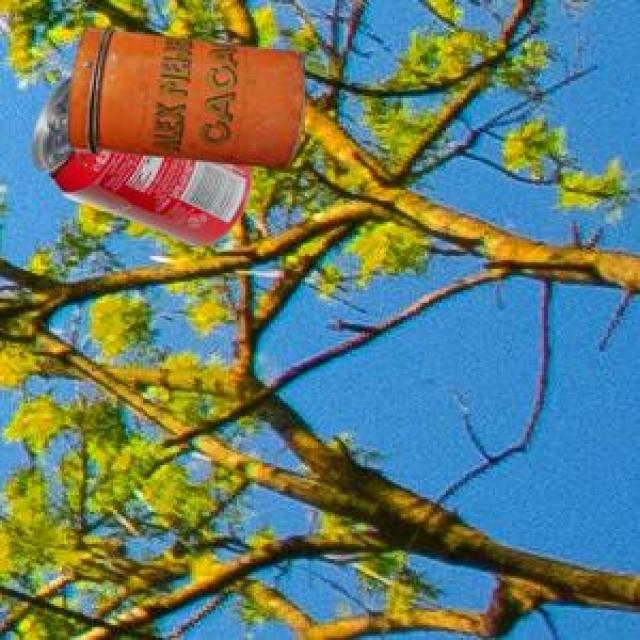logam: (29, 74, 246, 244), (65, 25, 302, 167)
